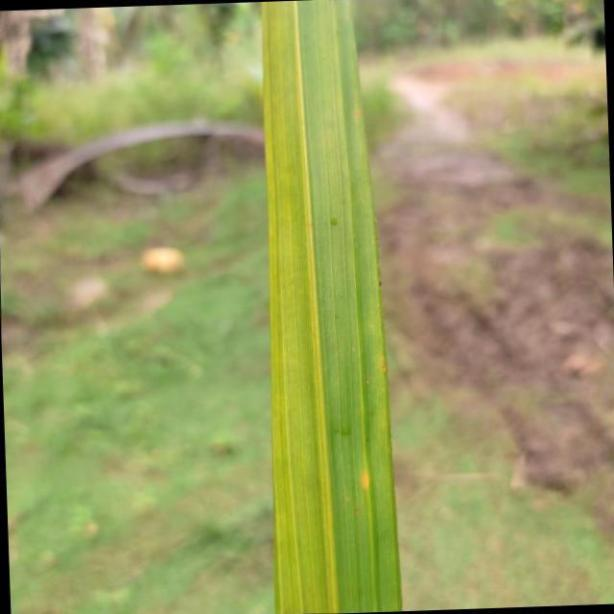nitrogen: (260, 0, 404, 614)
